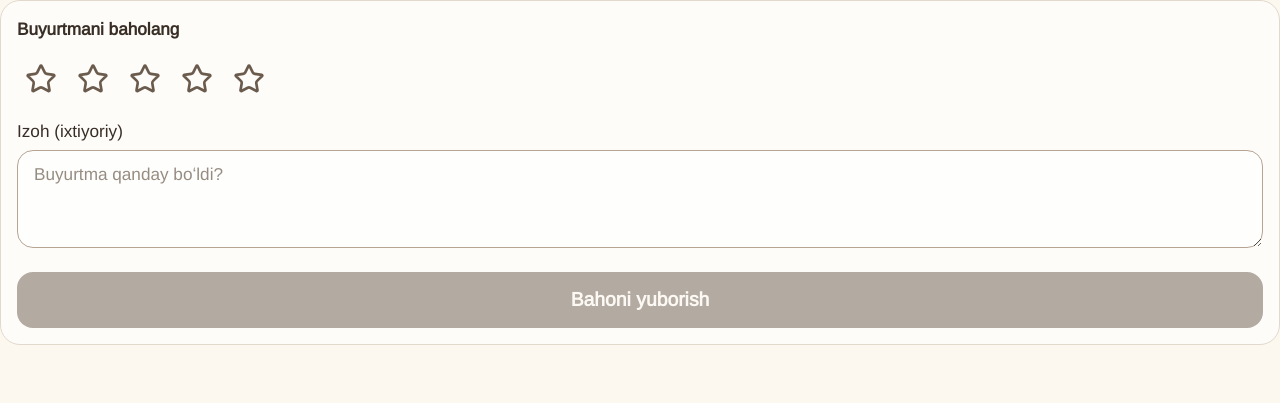
it: ReviewSection › explains a duplicate review with the translated error
The image size is (1280, 403).
Click the radio button named "5 yulduz": (249, 79) 225,55 -> 273,103
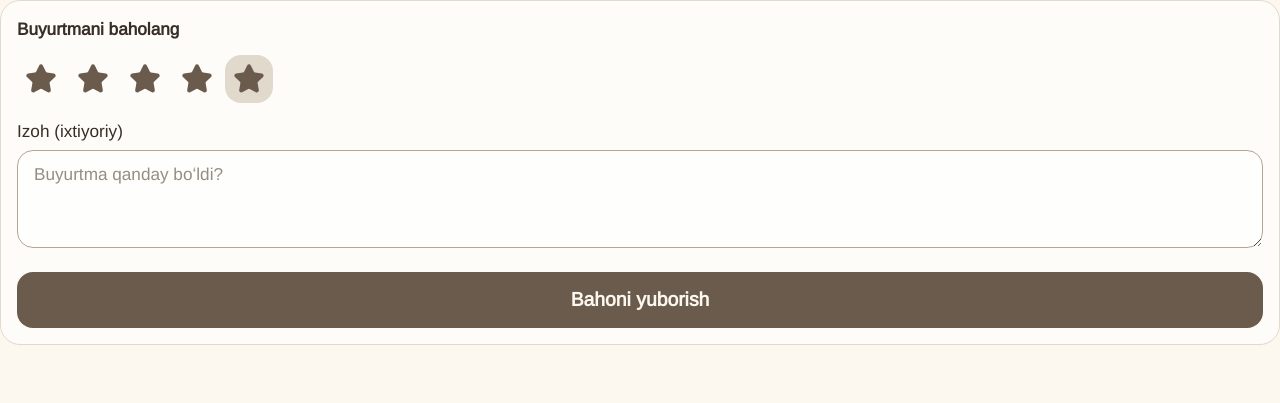
Click the button "Bahoni yuborish": (640, 300) 17,272 -> 1263,328
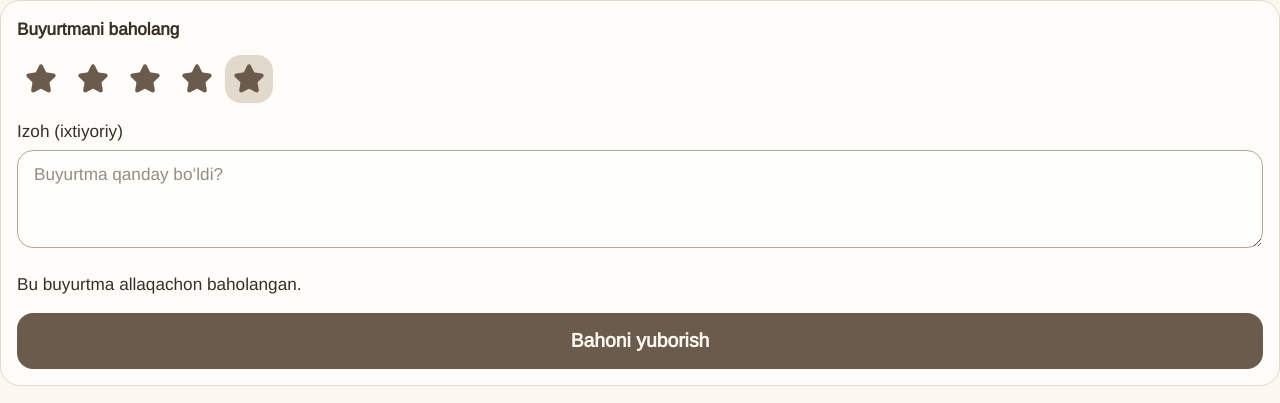
Expected: the text "Bu buyurtma allaqachon baholangan." is shown, 17,275 -> 302,294
